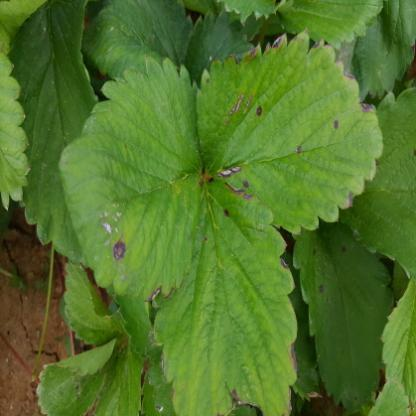Strawberry_Leaf_Spot: (196, 27, 383, 235), (56, 53, 206, 301), (151, 180, 298, 415), (291, 216, 396, 414), (339, 86, 415, 280)
